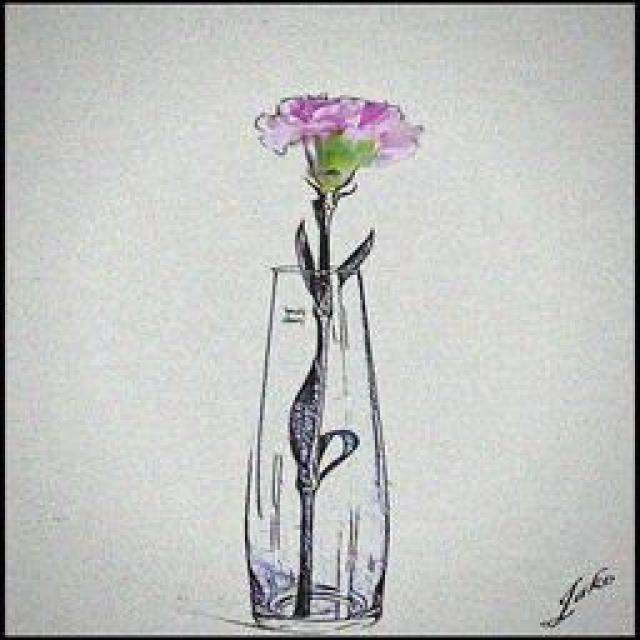carnation: (252, 83, 438, 199)
